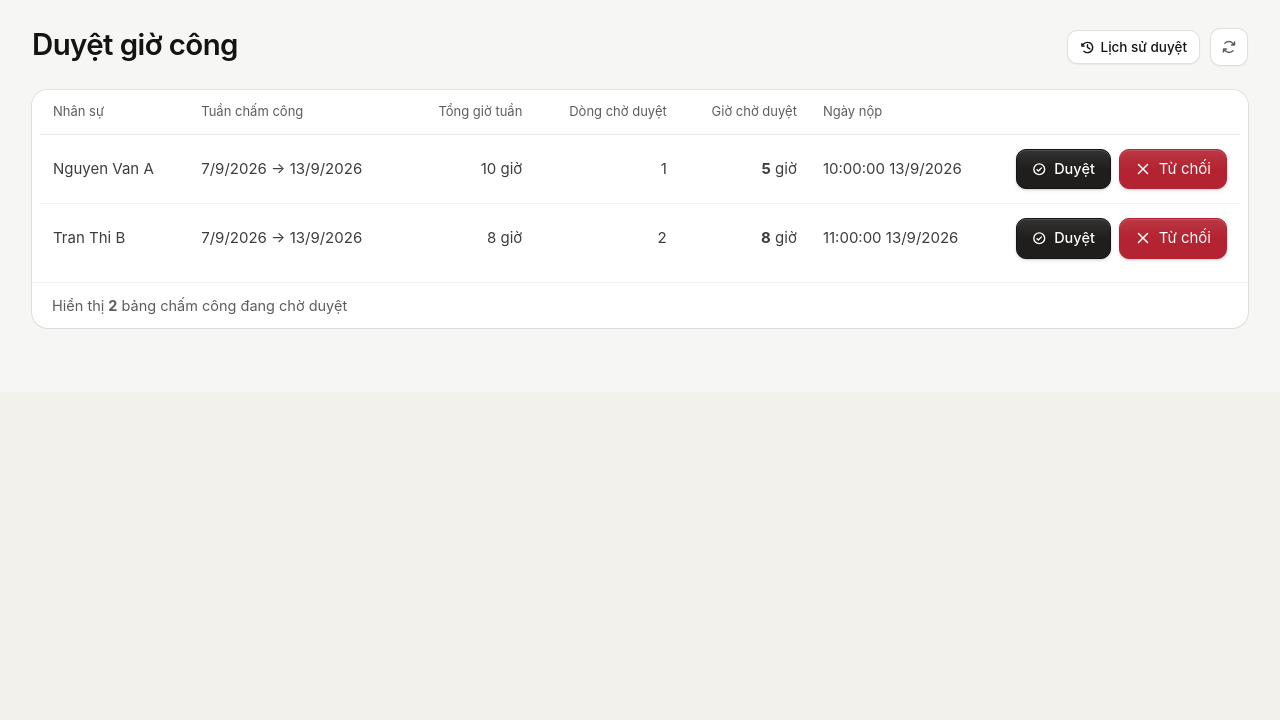
Scenario: TimesheetApprovalPage (NCL-06-CN-003 — Duyệt bảng chấm công) › duyệt một bảng thành công thì gỡ khỏi danh sách và hiện toast
Expected: the row with test id "pending-row-50" is shown, [40,134,1240,204]
Step 1. Click the button with test id "btn-approve-50" → (1063, 169), box [1016,148,1111,189]
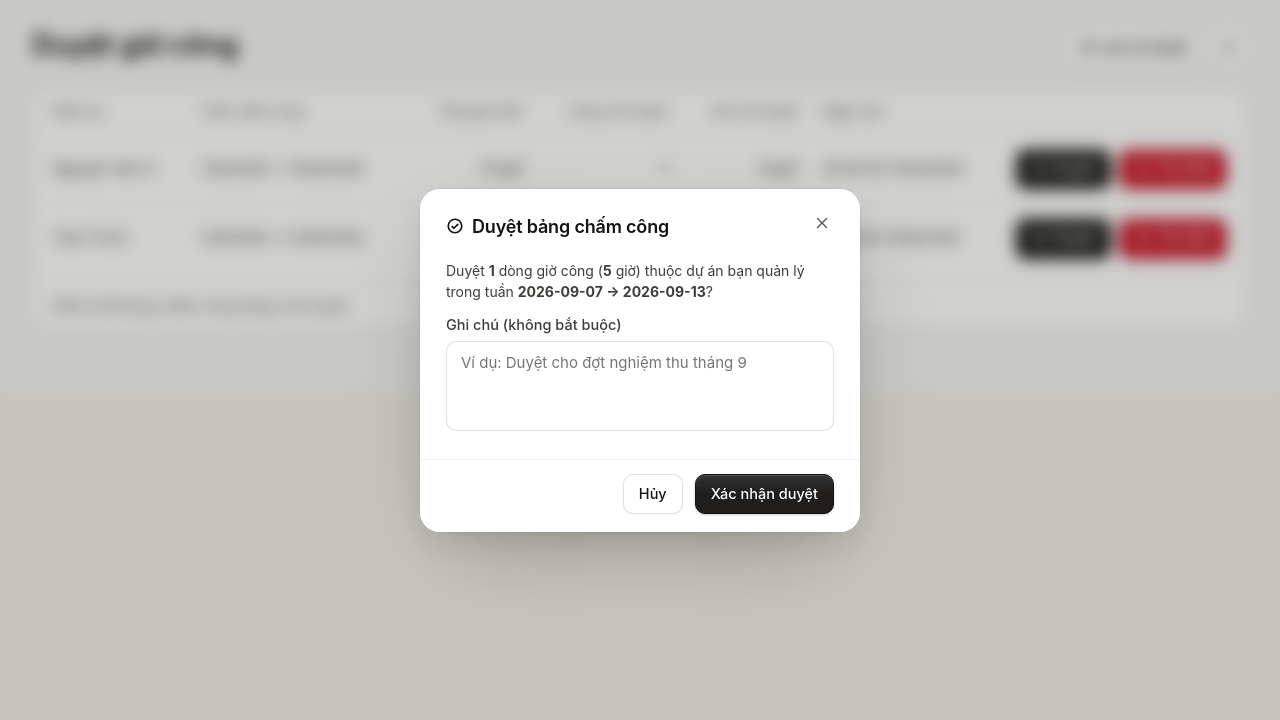
Step 2. Click the button with test id "btn-confirm-approve" → (764, 494), box [695,474,834,514]
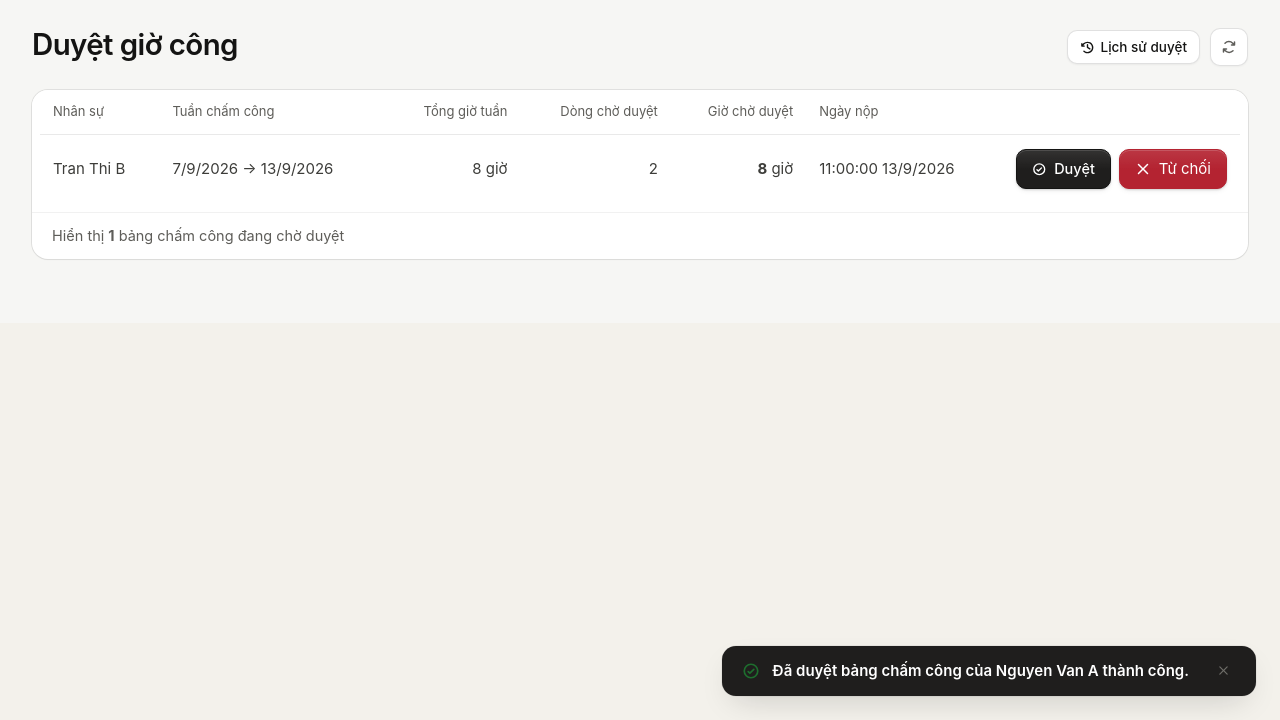
Expected: the row with test id "pending-row-51" is shown, [40,134,1240,204]
Result: the row with test id "pending-row-50" is gone
Result: the text "Đã duyệt bảng chấm công của Nguyen Van A thành công." is shown at [772,660,1189,682]
